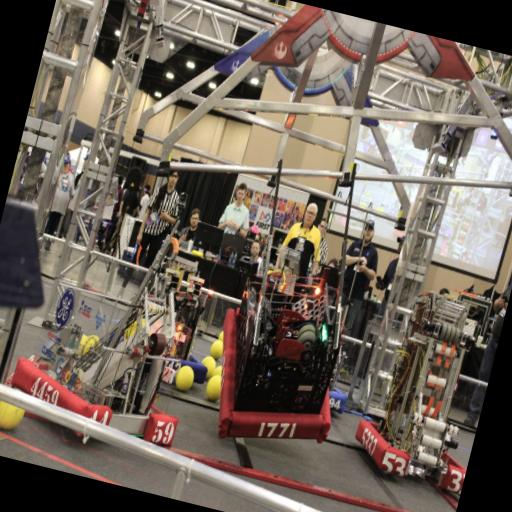robot: (2, 177, 232, 464), (192, 140, 394, 464), (358, 282, 498, 492), (104, 209, 244, 395)
